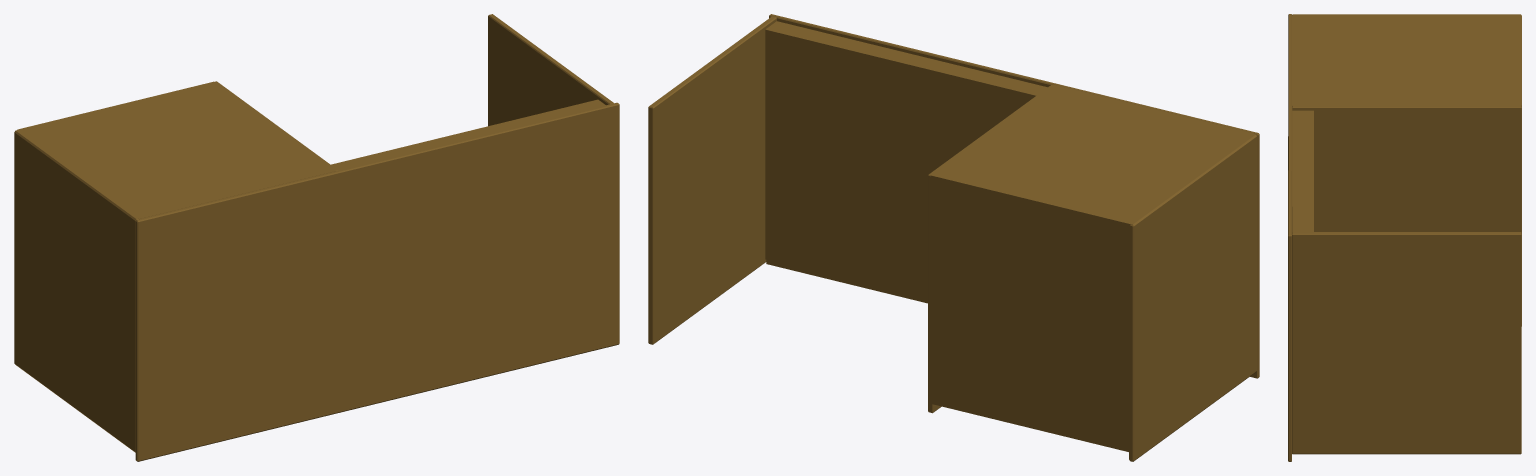
Rendered from DeskmeshDesk_318_0.obj.
The picture shows the model from 3 angles, left to right: view 1: azimuth 30°, elevation 25°; view 2: azimuth 150°, elevation 25°; view 3: azimuth 270°, elevation 25°; orthographic projection. The views are drawn at different scales.
Parts seen in each view (by area): view 1: Desk_318; view 2: Desk_318; view 3: Desk_318.
Boxes of the visible parts, x1,y1,x2,y2 form: Desk_318: [14, 14, 619, 461]; Desk_318: [648, 14, 1259, 461]; Desk_318: [1288, 14, 1521, 461].
Size of the model in its own units: 1.5 by 0.7171 by 0.6694.
